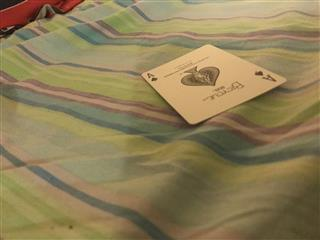AceOfSpades: (140, 43, 286, 124)
